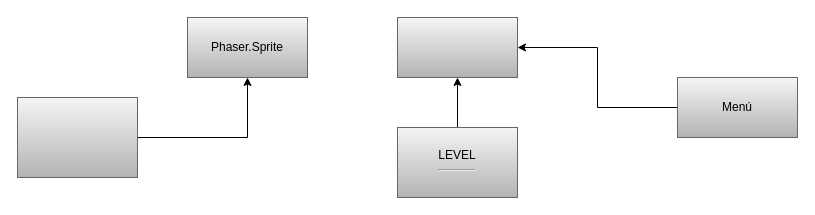
The diagram is 815 pixels wide and 215 high, and some of its shapes have lost their labels. The centre of each missing label's shape, as x and y in pixels:
NPCS tipoCoctel ayudaColor Dialogo(): point 77,137
Phaser.Scene: point 457,47
